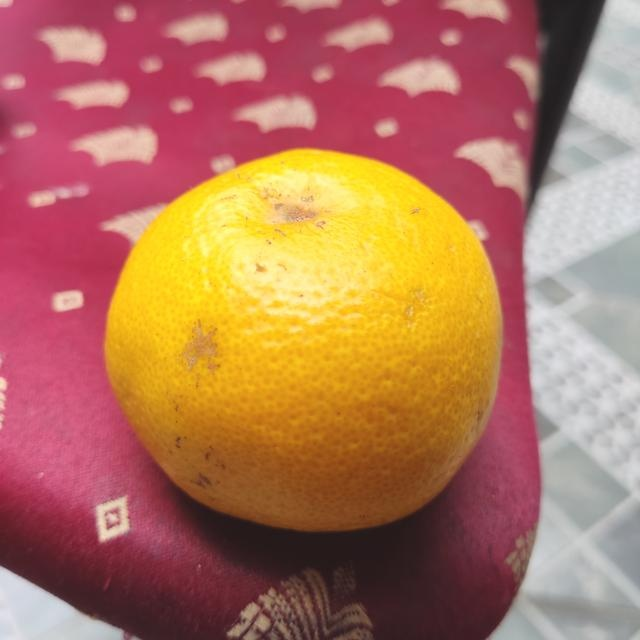agrume: (100, 150, 508, 533)
